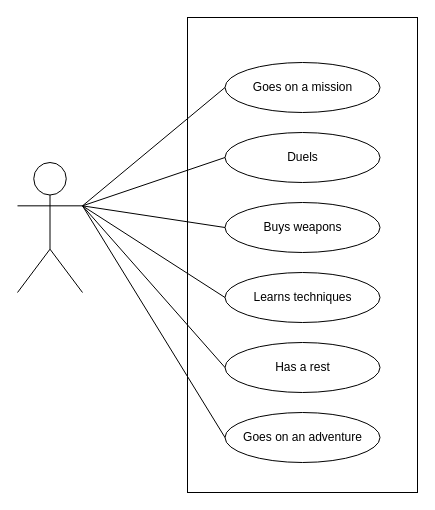
This 435x510 diagram has some shape labels left out. Each missing label, with the box of its shape:
Game: (186, 16, 418, 492)
Player: (16, 162, 82, 292)
